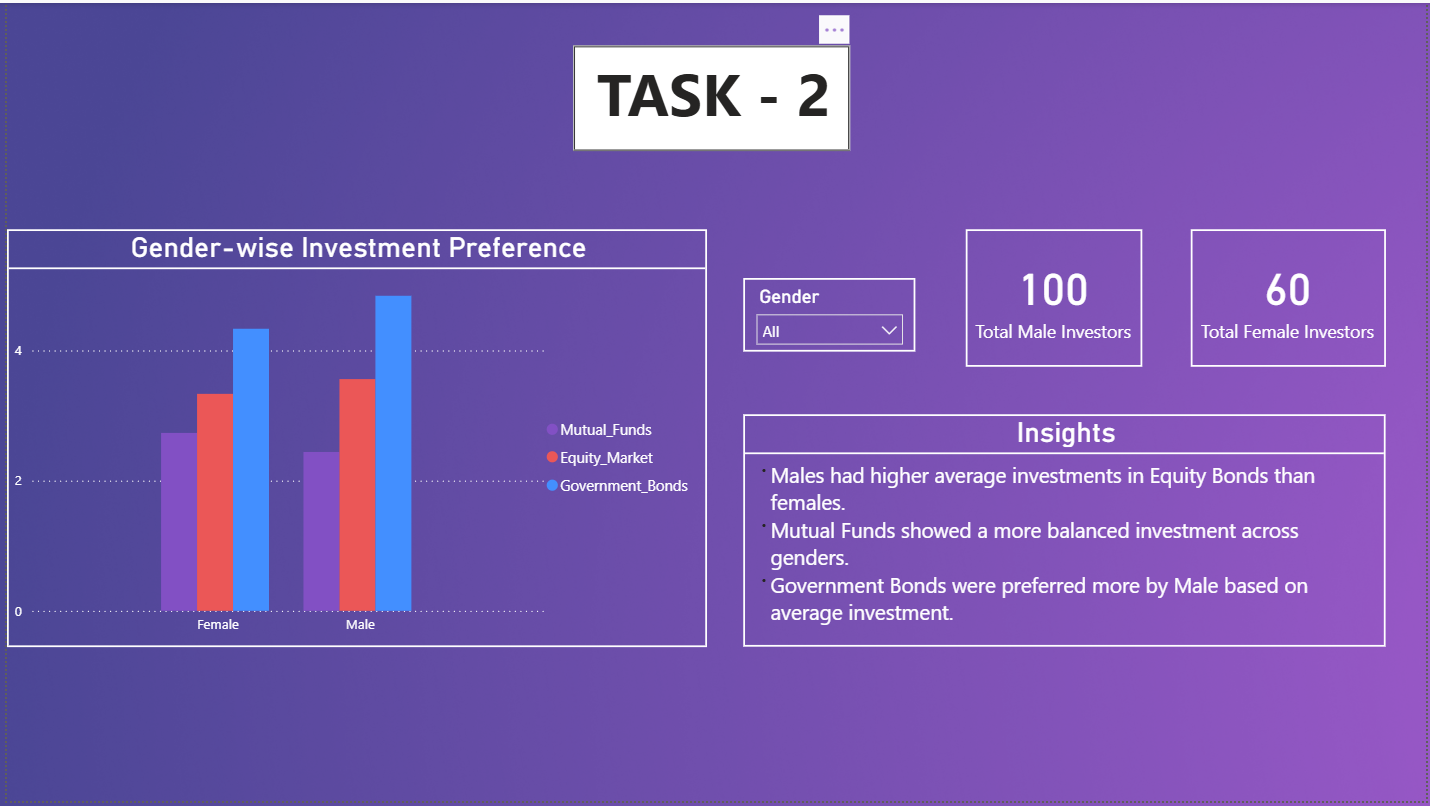

This screenshot's page, from the dashboard's own definition file:
{"tool":"powerbi","page":{"name":"Task 2","canvas":[1280,720],"ordinal":1},"visuals":[{"type":"clusteredColumnChart","title":"Gender-wise Investment Preference","fields":{"Category":["Data_set 2.gender"],"Y":["Avg(Data_set 2.Mutual_Funds)","Avg(Data_set 2.Equity_Market)","Avg(Data_set 2.Government_Bonds)"]},"box":[0,204,631.2,376.5],"z":0},{"type":"textbox","title":"Insights","box":[663.9,370.8,579.3,209.6],"z":1000},{"type":"card","fields":{"Values":["CountNonNull(Data_set 2.gender)"]},"box":[864.5,204,158.9,124],"z":2000},{"type":"card","fields":{"Values":["CountNonNull(Data_set 2.gender)"]},"box":[1067.4,204,175.8,124],"z":3000},{"type":"slicer","fields":{"Values":["Data_set 2.gender"]},"box":[663.9,248,155.5,66.5],"z":4000},{"type":"textbox","box":[511.1,37.9,249.5,95.4],"z":5000}]}

Visuals, with their boxes in screenshot pixels (x1, y1, x2, y2), scaled from the page's 1280x720 canvas onto the 1430x806 screenshot:
"Gender-wise Investment Preference" clusteredColumnChart: pyautogui.locateOnScreen(0, 228, 705, 650)
"Insights" textbox: pyautogui.locateOnScreen(742, 415, 1389, 650)
card - CountNonNull(Data_set 2.gender): pyautogui.locateOnScreen(966, 228, 1143, 367)
card - CountNonNull(Data_set 2.gender): pyautogui.locateOnScreen(1192, 228, 1389, 367)
slicer - Data_set 2.gender: pyautogui.locateOnScreen(742, 278, 915, 352)
textbox: pyautogui.locateOnScreen(571, 42, 850, 149)
